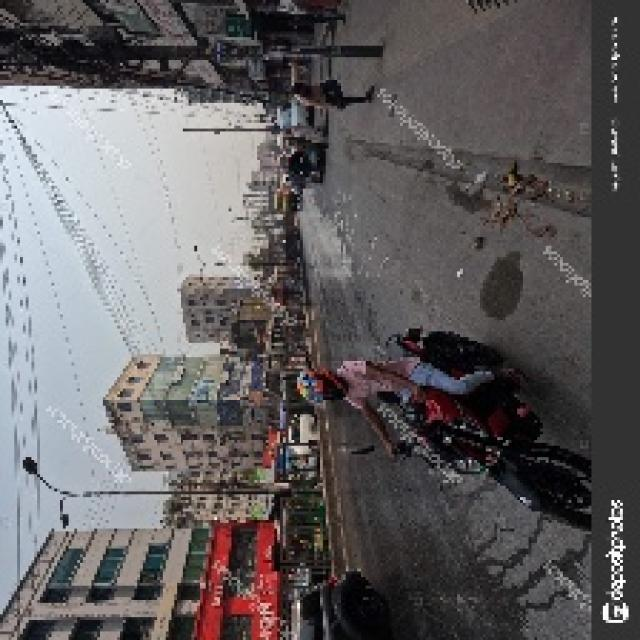bike: (341, 331, 583, 537)
car: (274, 91, 312, 133)
